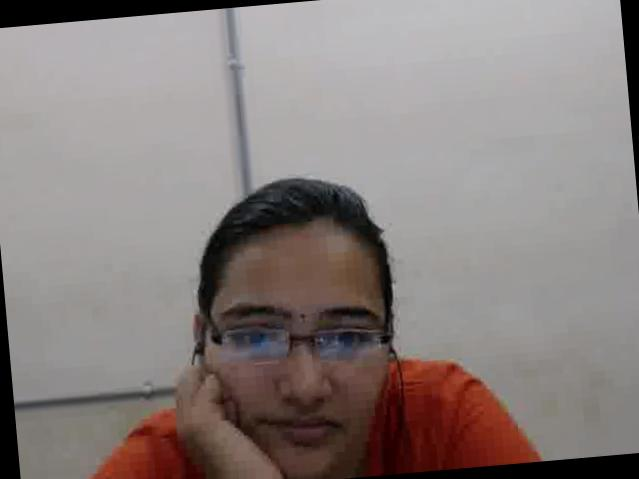bosan: (195, 231, 405, 479)
